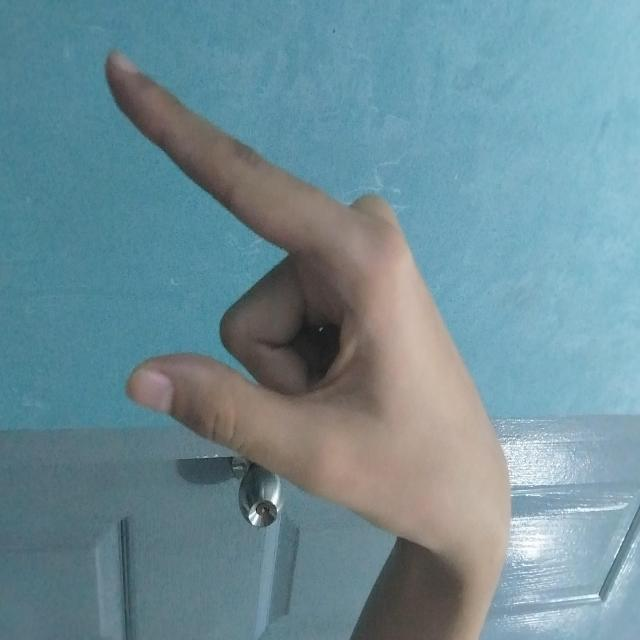Q: (59, 33, 546, 567)
